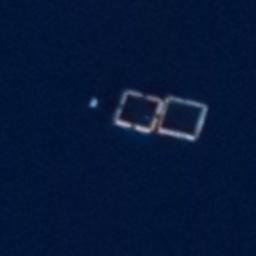square_solid: (109, 84, 168, 140), (155, 92, 211, 148)
